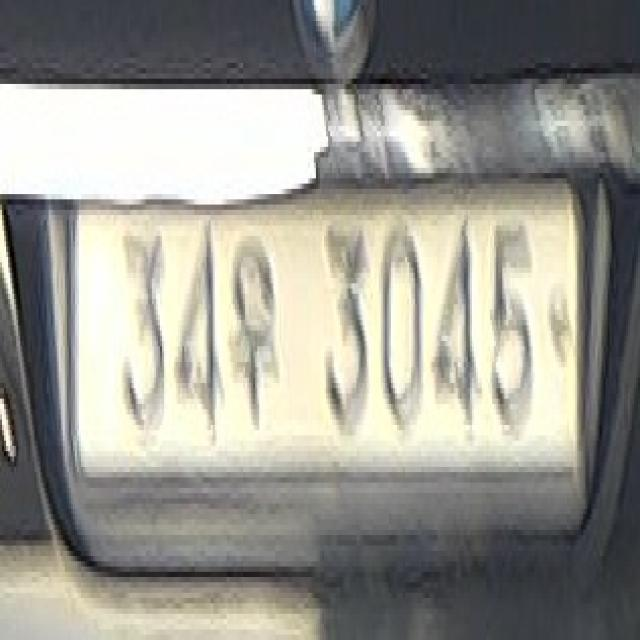0: (379, 220, 423, 425)
3: (320, 215, 371, 425), (122, 226, 170, 430)
4: (172, 231, 225, 430), (431, 215, 478, 420)
5: (488, 215, 535, 425)
license_plate: (65, 189, 585, 498)
u: (227, 236, 277, 425)
